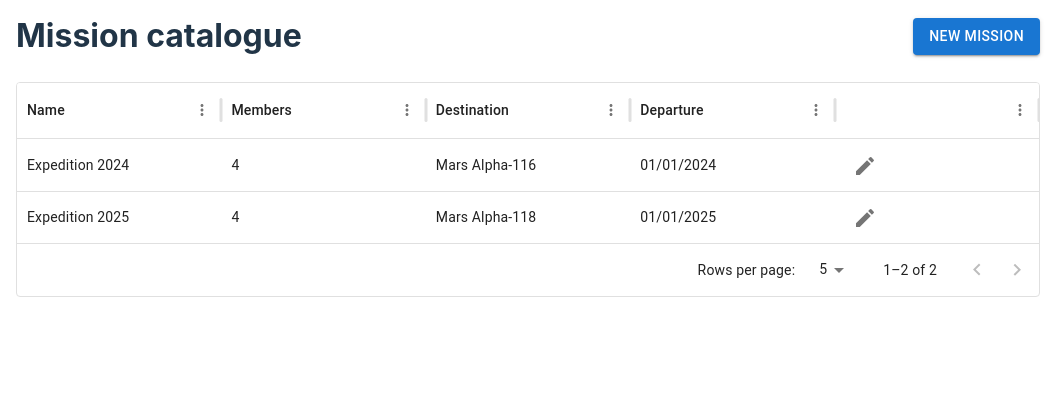
Test: Create a new mission › should add and remove a new member row when clicking on 'add member'
This screenshot has width=1058, height=418.
Click the link with test id "create-mission".
click(977, 37)  # box top-left (913, 18), bottom-right (1040, 55)
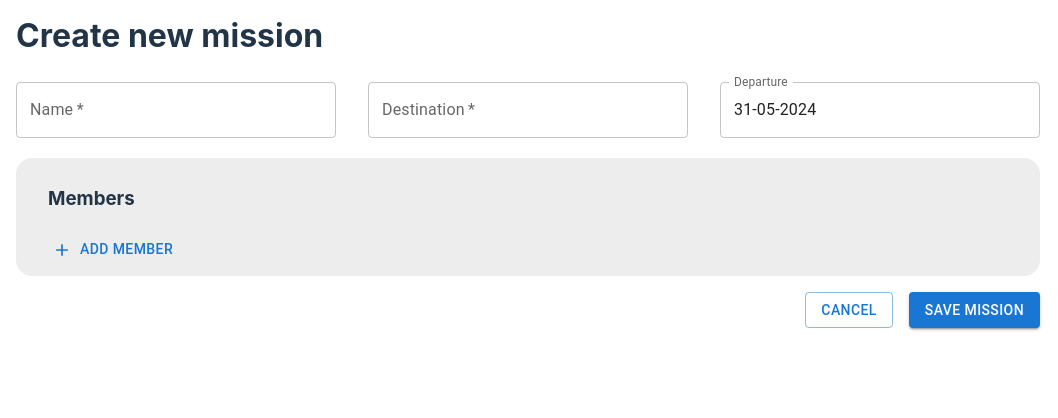
Click the button with test id "add-member".
click(115, 250)  # box top-left (48, 231), bottom-right (181, 268)
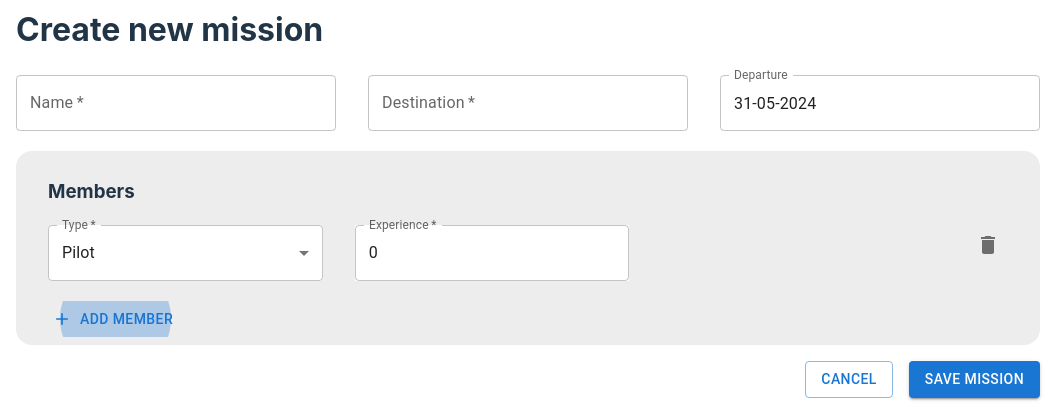
Expected: the number of elements with class "member" is 1, top-left (48, 225), bottom-right (1008, 281)
Click the 1st button.
click(988, 245)  # box top-left (968, 225), bottom-right (1008, 265)
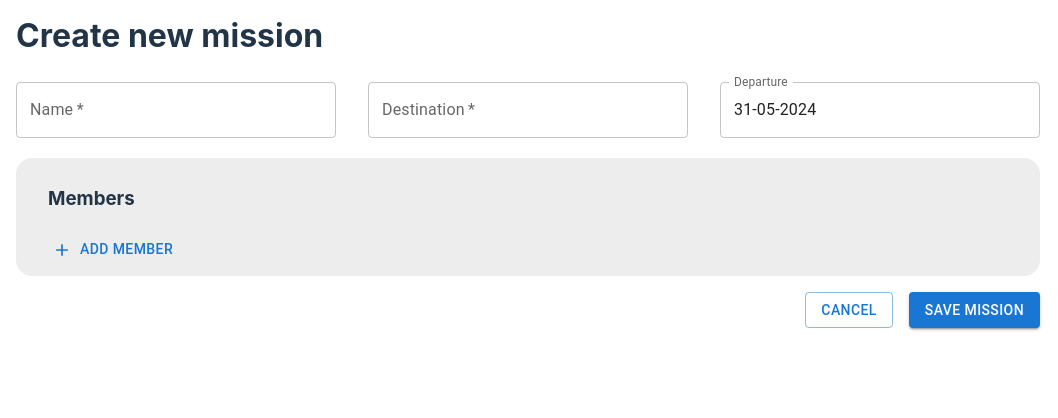
Expected: no elements with class "member" are shown
